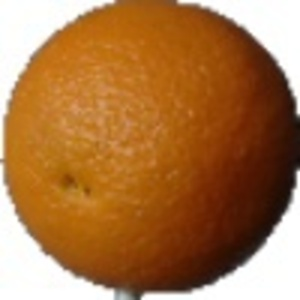laranja: (3, 3, 299, 295)
